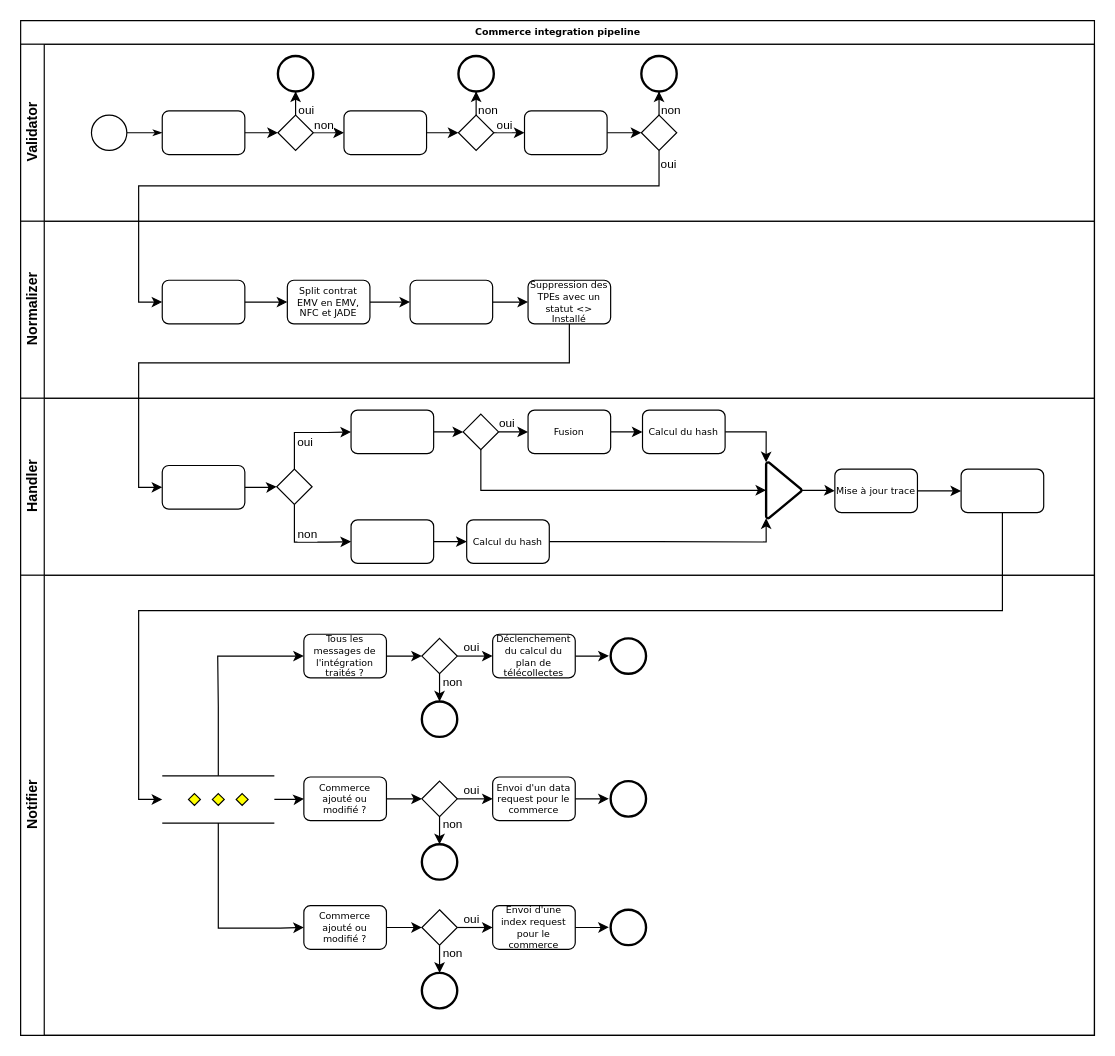
The diagram is 1115 pixels wide and 1056 high, and some of its shapes have lost their labels. The centre of each missing label's shape, as x and y in pixels:
Comerce exclut ?: pixel 203 132
Commerce existant ?: pixel 203 486
Hash différent ?: pixel 392 431
Insertion: pixel 392 541
MCC renseigné ?: pixel 565 132
Message valide ?: pixel 385 132
Sauvegarde BDD: pixel 1002 490
Suppression des caractères inutiles dans les champs: pixel 203 301
Suppression des contrats non traités: pixel 451 301
